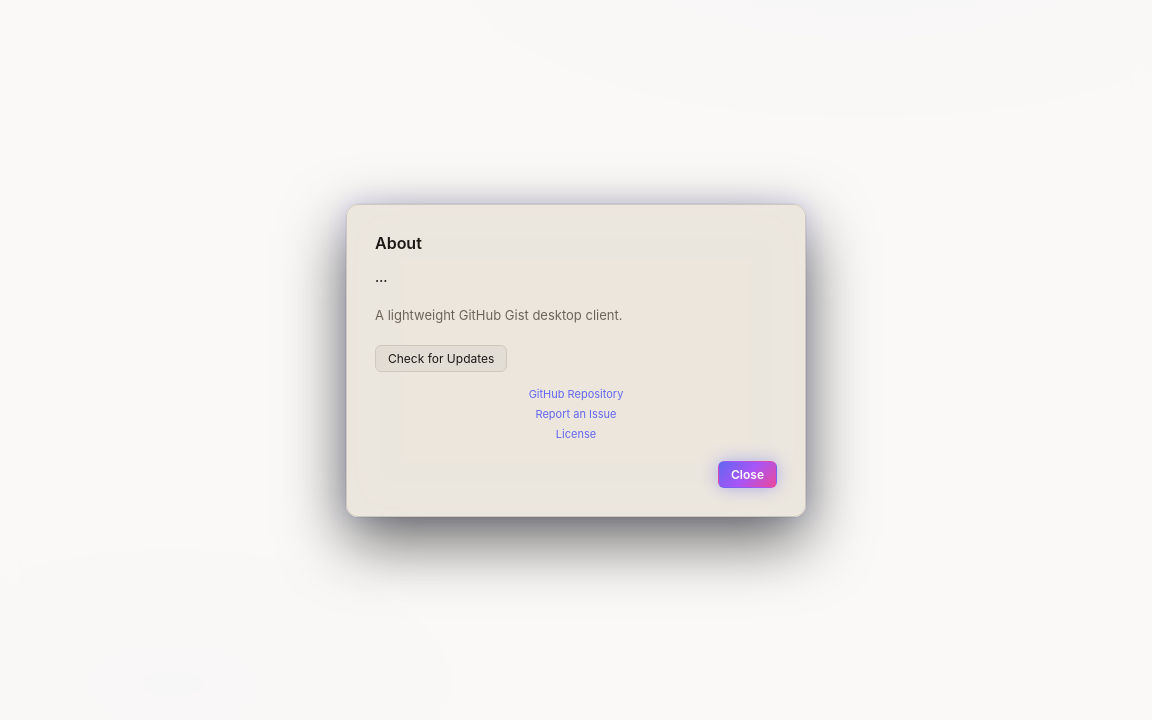
AboutModal › shows an error message when the update check fails
This screenshot has width=1152, height=720.
Click the button "Check for Updates".
click(441, 358)  # box [375, 345, 507, 372]
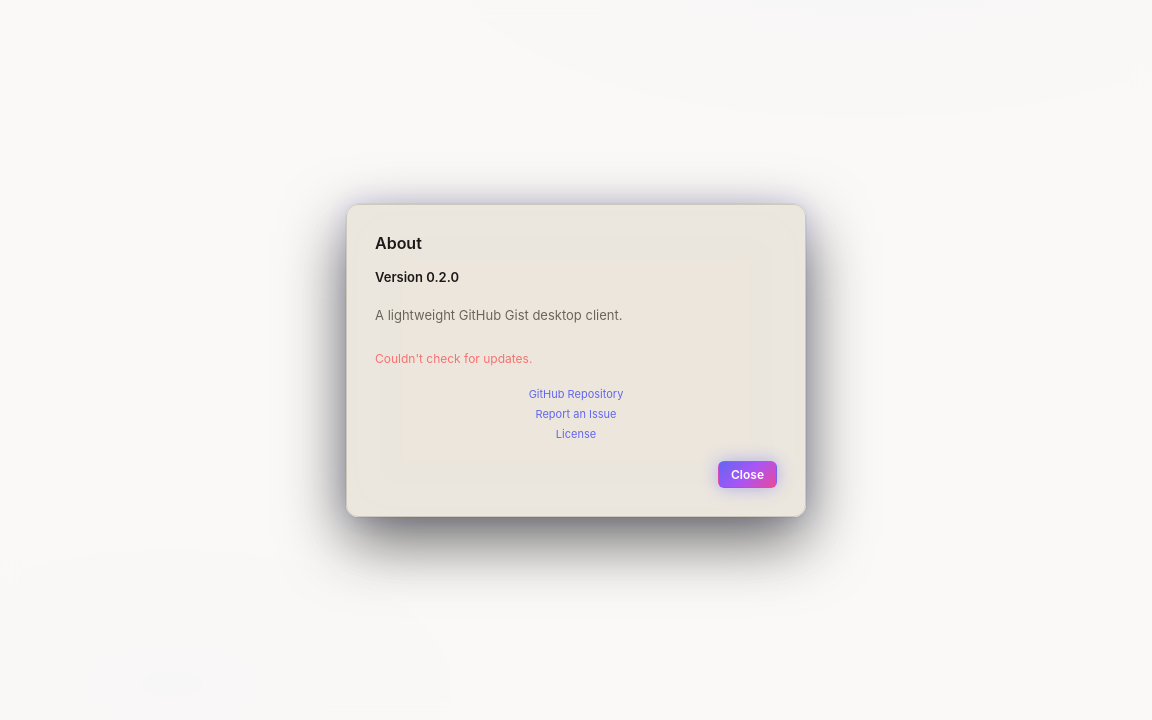
Check: the text "Couldn't check for updates." is shown, box [375, 351, 532, 366]
